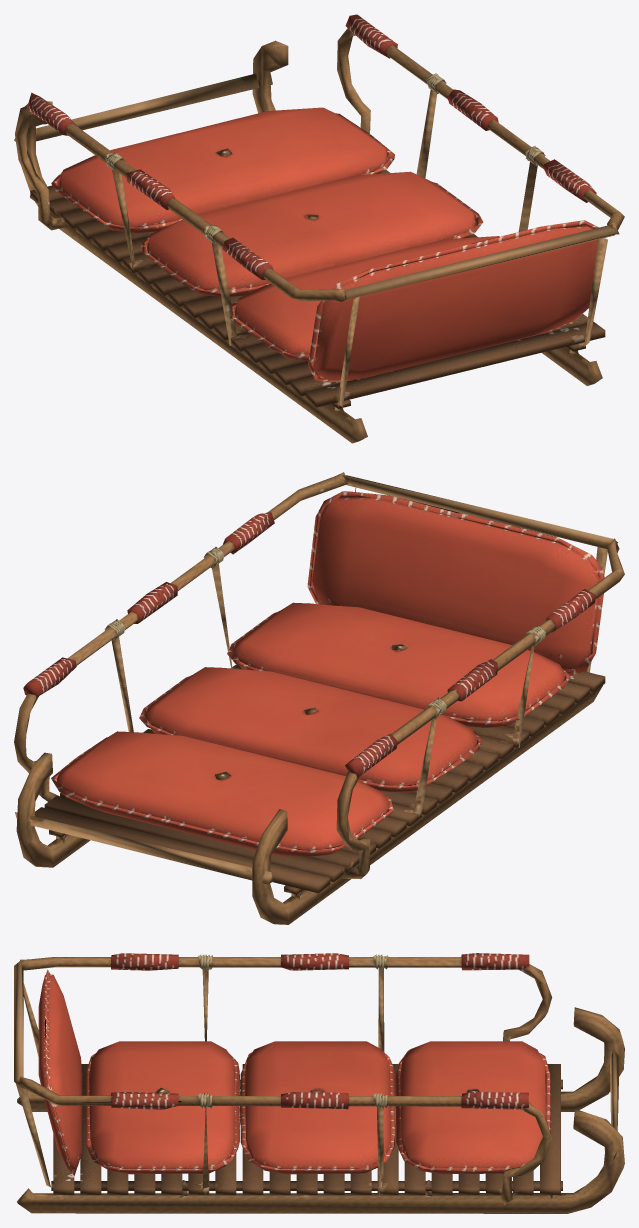
The model's file is sled_mid.glb.
3 renders of one model, top to bottom at view 1: azimuth 30°, elevation 25°; view 2: azimuth 150°, elevation 25°; view 3: azimuth 270°, elevation 25°, orthographic. The views are drawn at different scales.
Visible parts, largest first — view 1: prop_sled_mid_felt, prop_sled_mid_wood; view 2: prop_sled_mid_felt, prop_sled_mid_wood; view 3: prop_sled_mid_felt, prop_sled_mid_wood.
Boxes of the visible parts, bbox=[...] form: prop_sled_mid_felt: bbox=[26, 14, 598, 382]; prop_sled_mid_wood: bbox=[14, 28, 624, 443]; prop_sled_mid_felt: bbox=[23, 491, 604, 856]; prop_sled_mid_wood: bbox=[14, 472, 624, 924]; prop_sled_mid_felt: bbox=[38, 953, 550, 1175]; prop_sled_mid_wood: bbox=[14, 957, 624, 1213].
Size of the model in its own units: 1.73 by 0.7993 by 3.05.
Materials: 2 (2 with a texture image).
